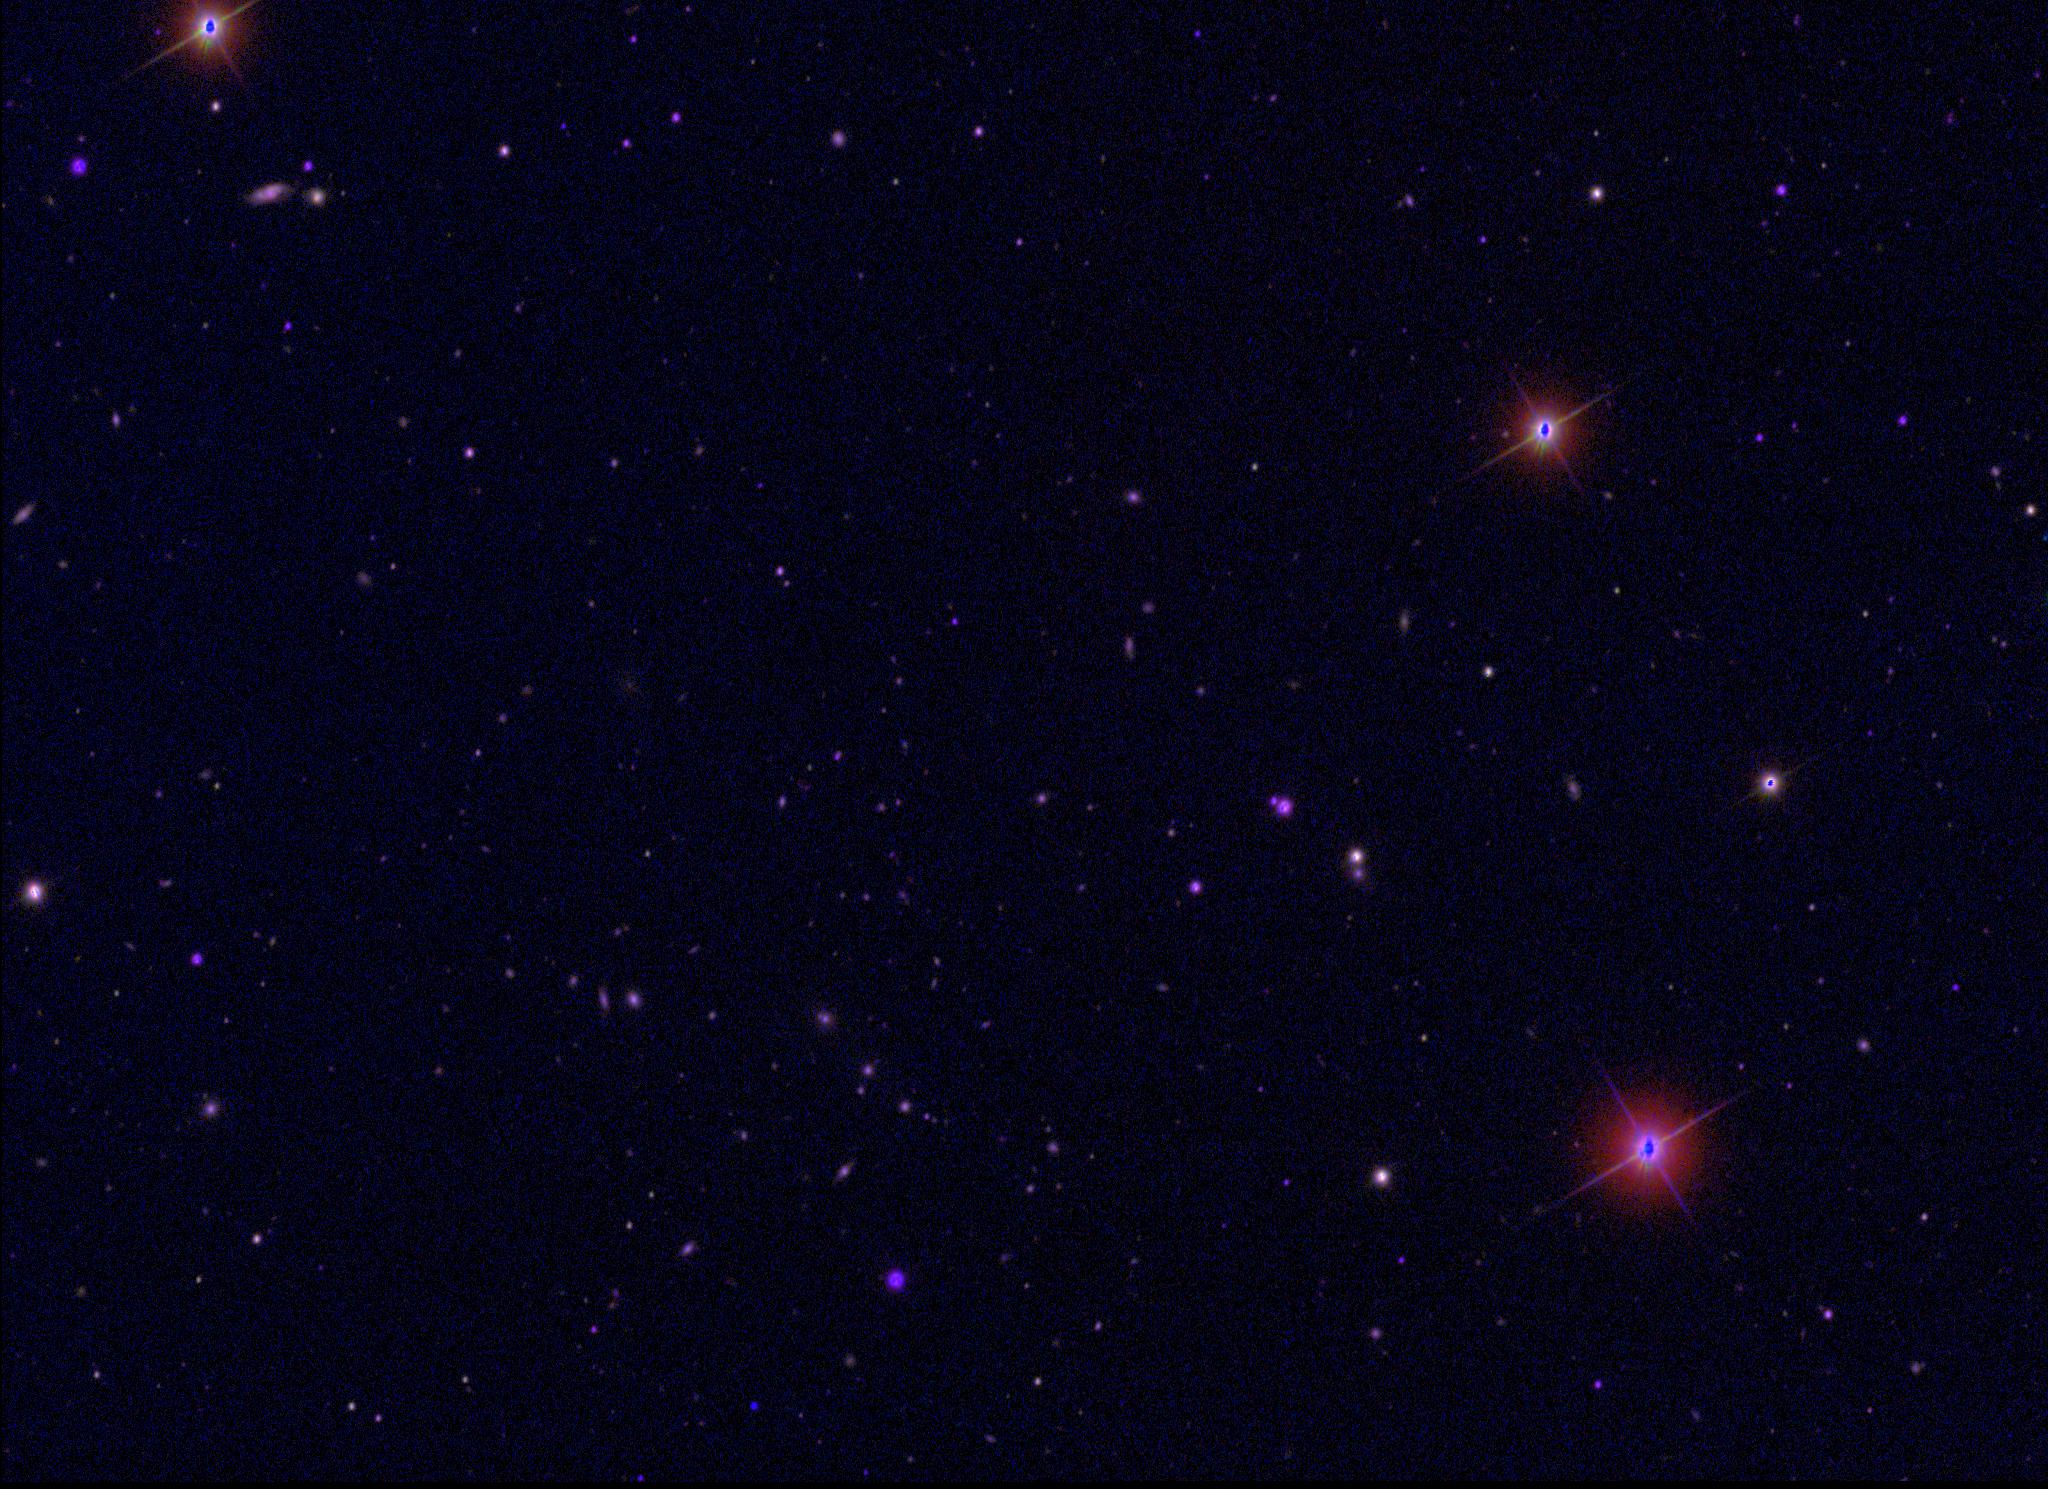L: (746, 1397, 758, 1411)
